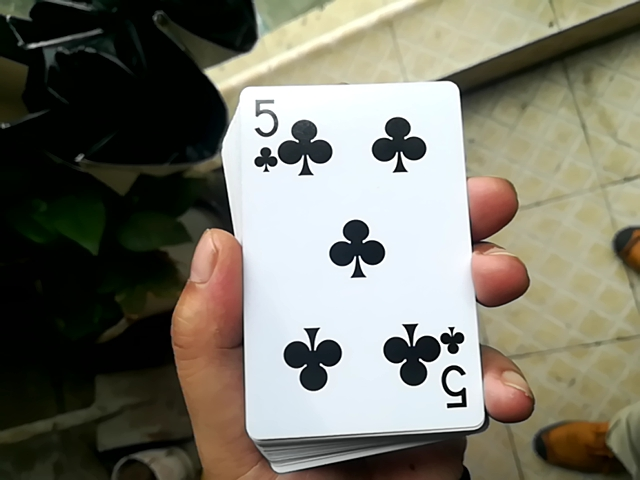mh 5: (222, 81, 482, 441)
